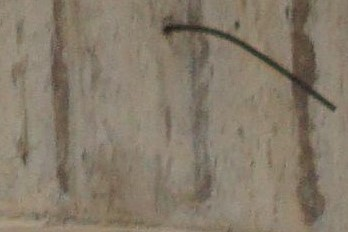Exposed reinforcement: (163, 23, 338, 113)
